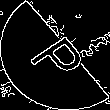P_NE: (20, 25, 90, 85)
